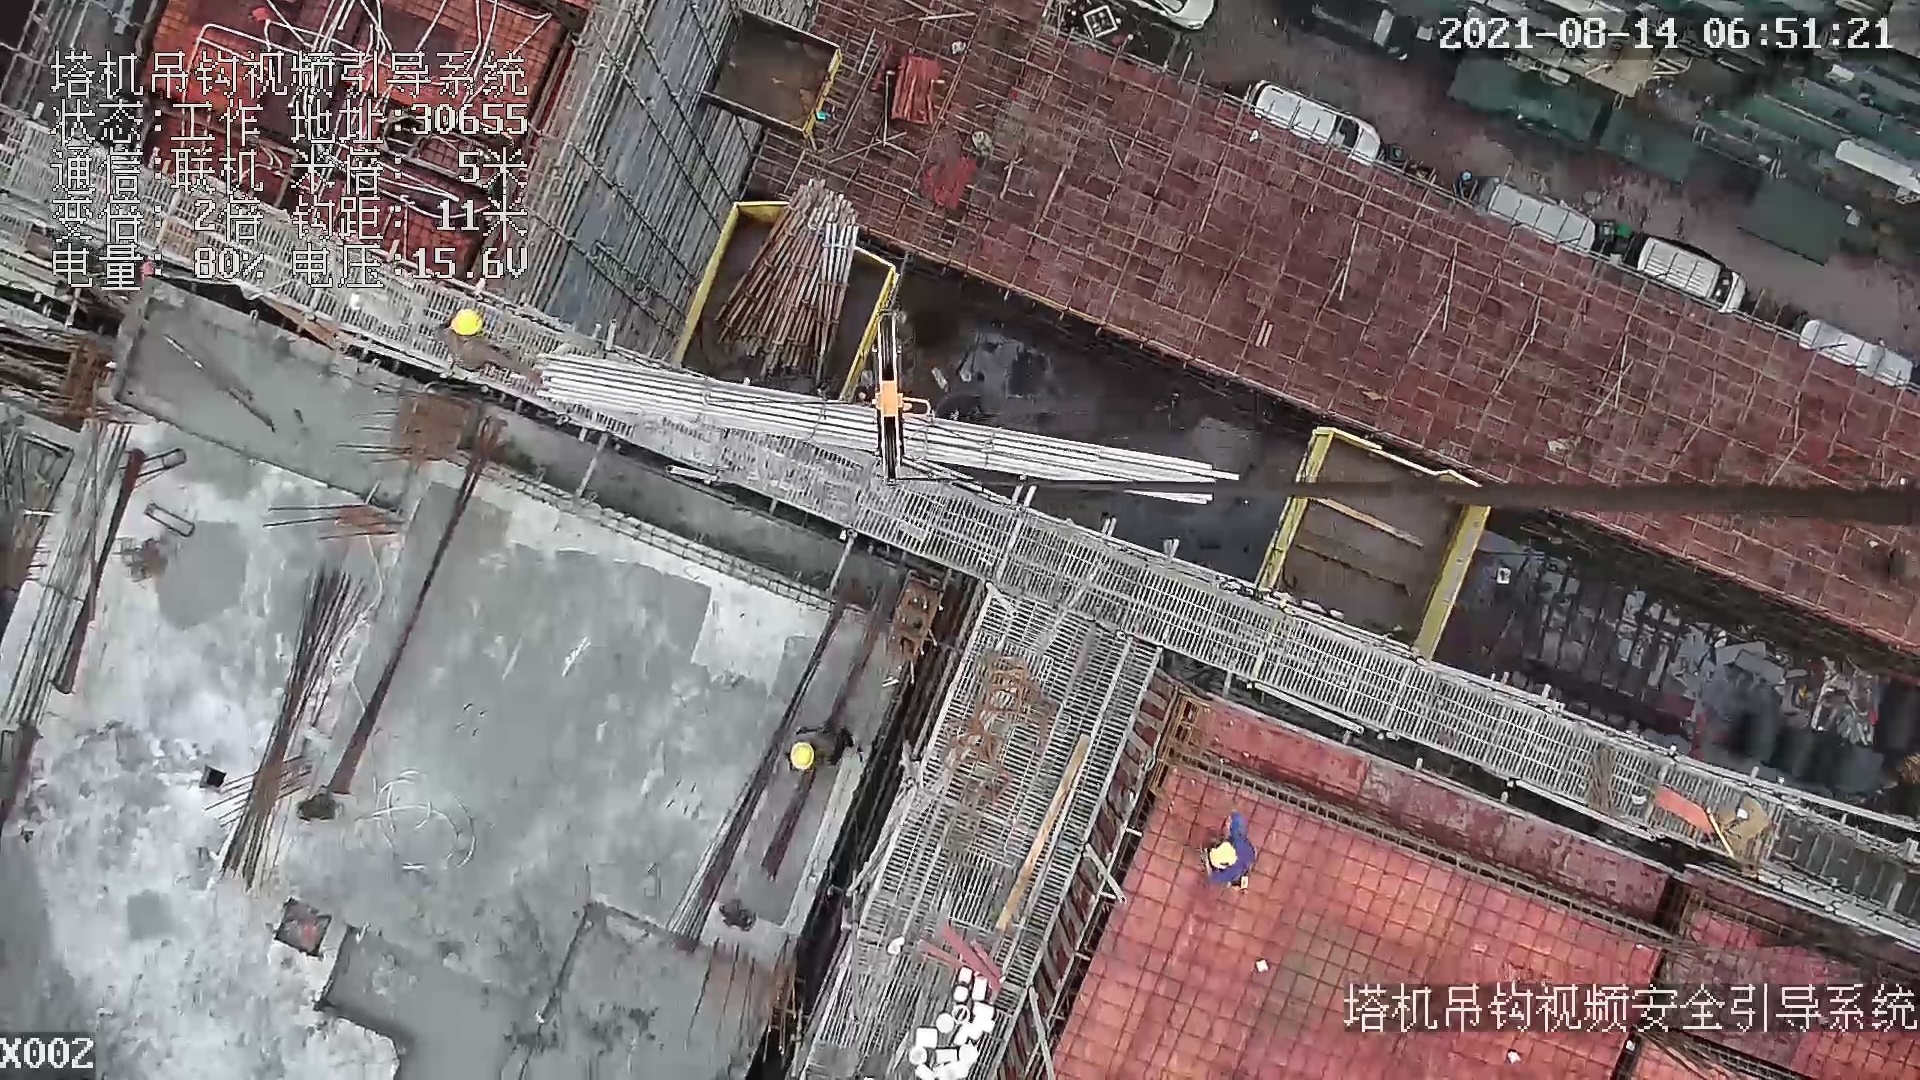helmet: (451, 303, 482, 339), (1203, 843, 1236, 869), (789, 741, 816, 770)
hook: (862, 310, 933, 490)
person: (429, 308, 546, 394), (1204, 809, 1260, 895), (765, 719, 860, 767)
rebar: (221, 566, 371, 893)
scaffold: (716, 176, 854, 391)
